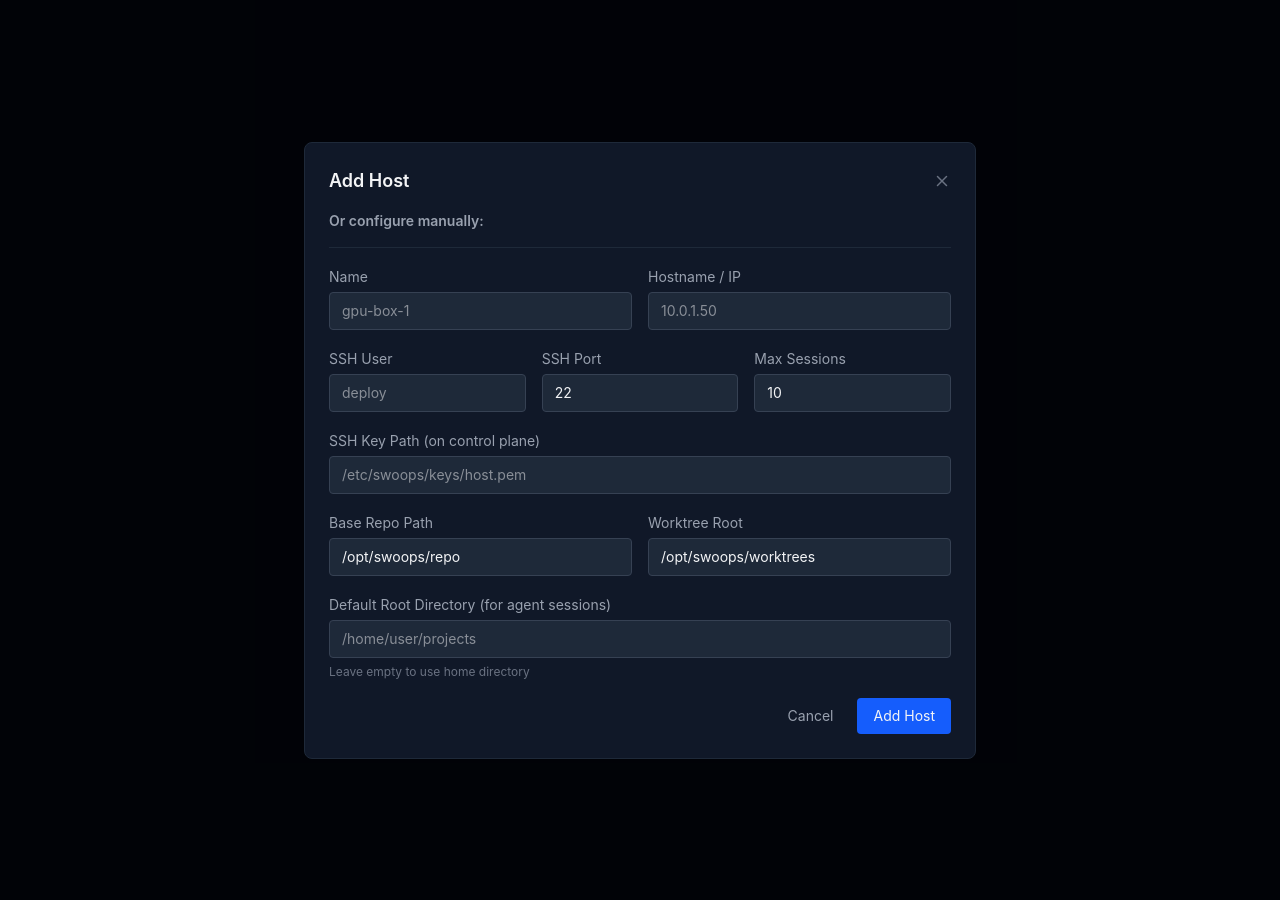
Scenario: CreateHostDialog › should show loading state while submitting
Type "Test Host" into the field with placeholder "gpu-box-1". click: [480, 310]
box: x1=329 y1=292 x2=632 y2=330
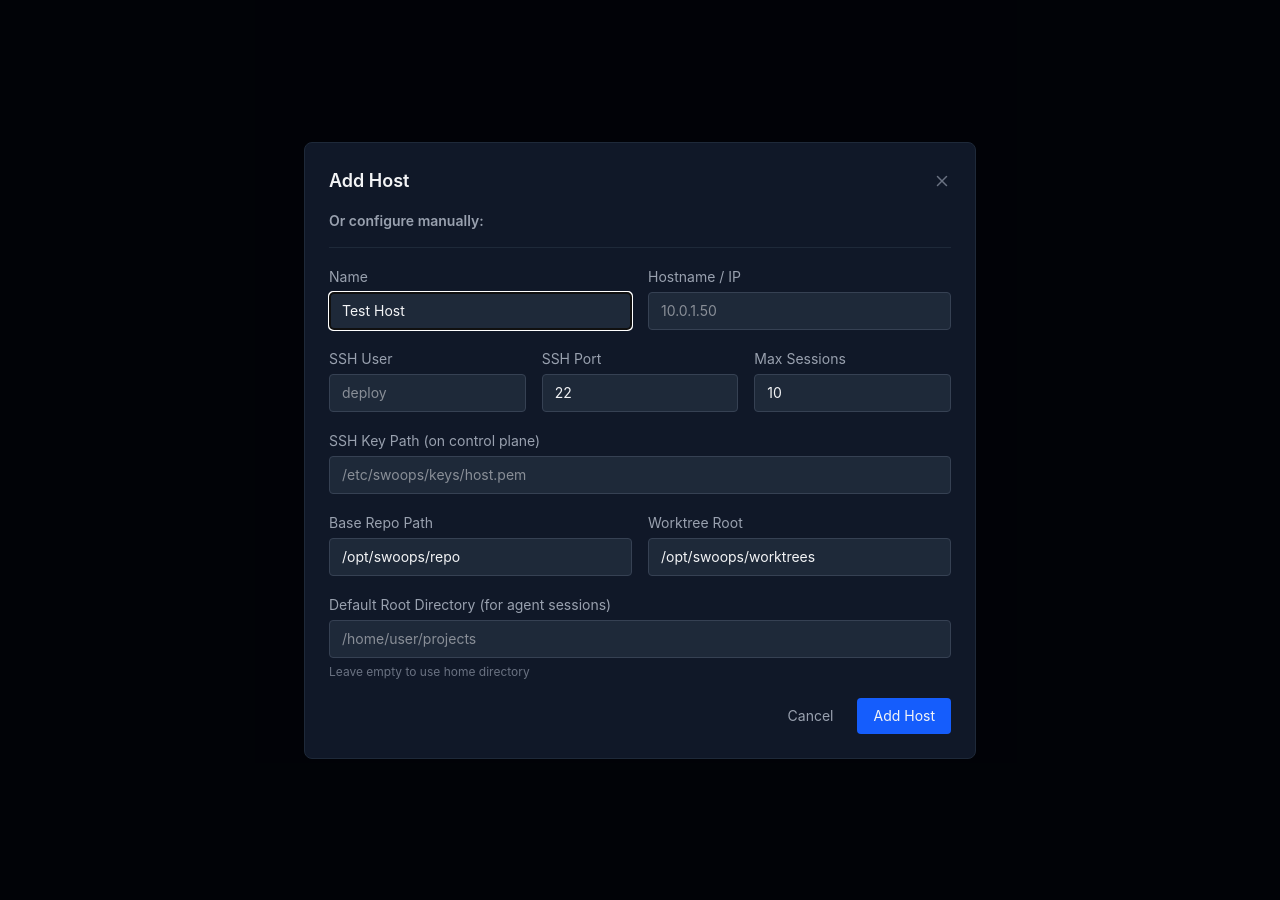
Type "test.example.com" into the field with placeholder "10.0.1.50". click: [800, 310]
box: x1=648 y1=292 x2=951 y2=330
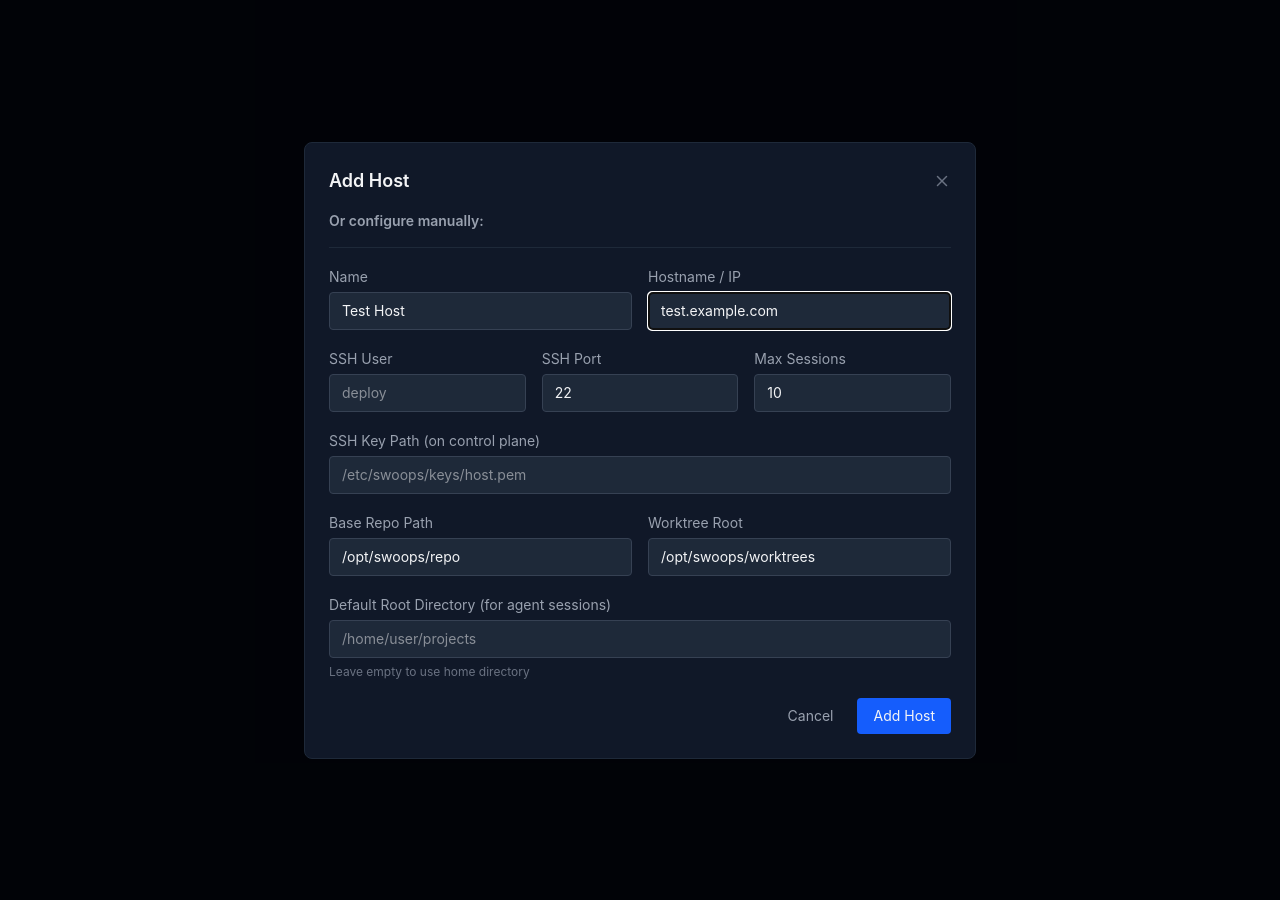
Type "testuser" into the field with placeholder "deploy". click: [427, 392]
box: x1=329 y1=374 x2=526 y2=412
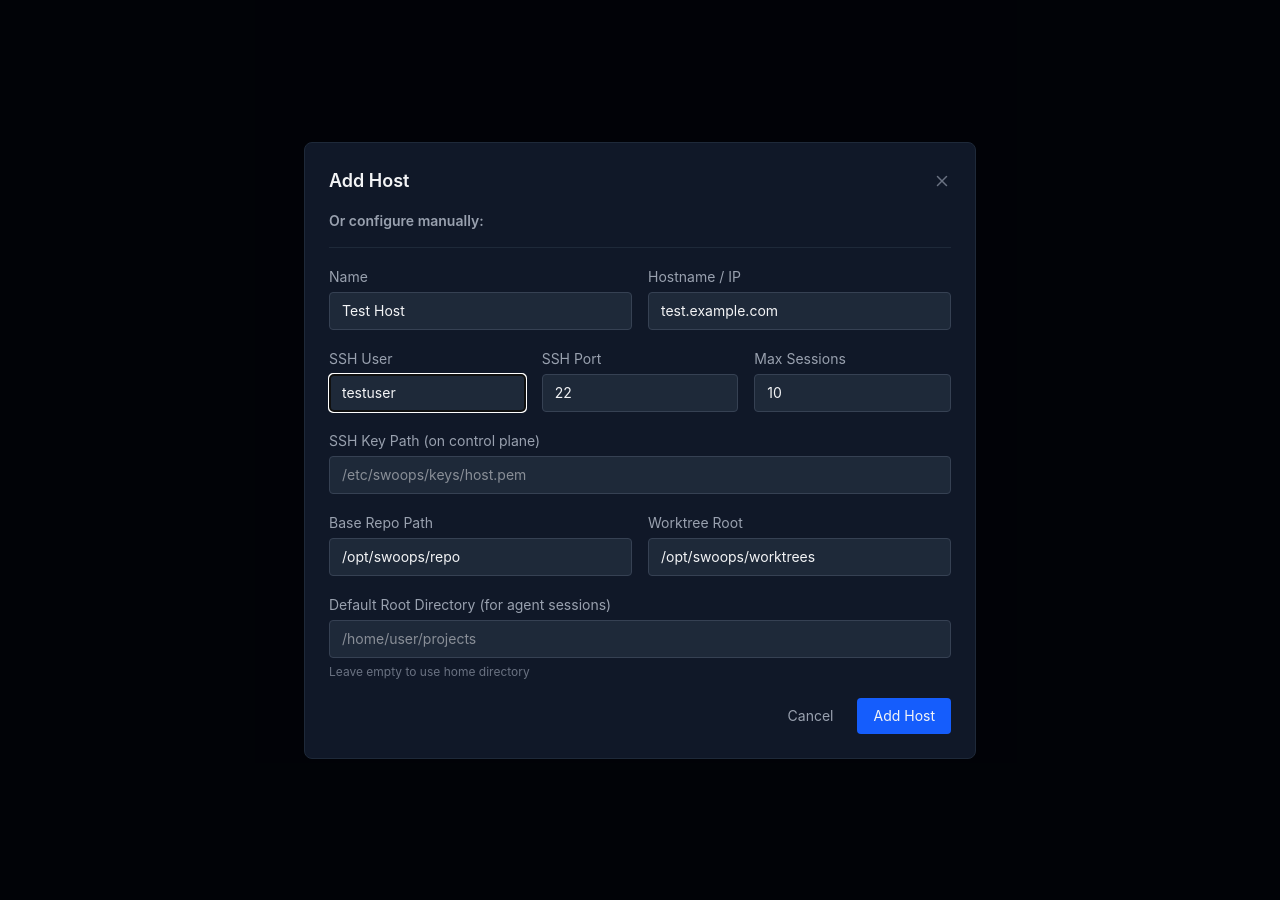
Type "/path/to/key" into the field with placeholder "/etc/swoops/keys/host.pem". click: [640, 474]
box: x1=329 y1=456 x2=951 y2=494
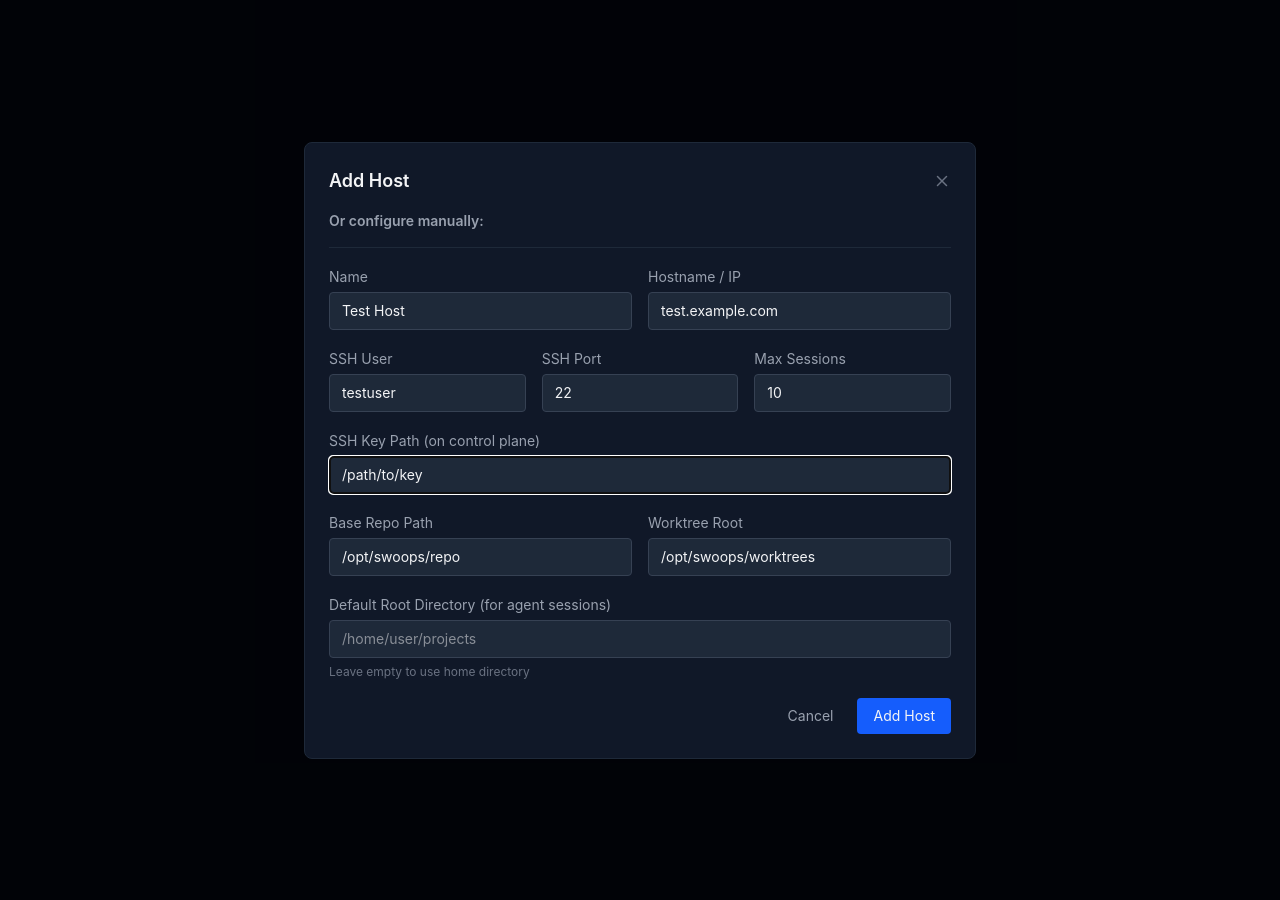
Click the button "Add Host". click: [904, 716]
box: x1=858 y1=698 x2=951 y2=734
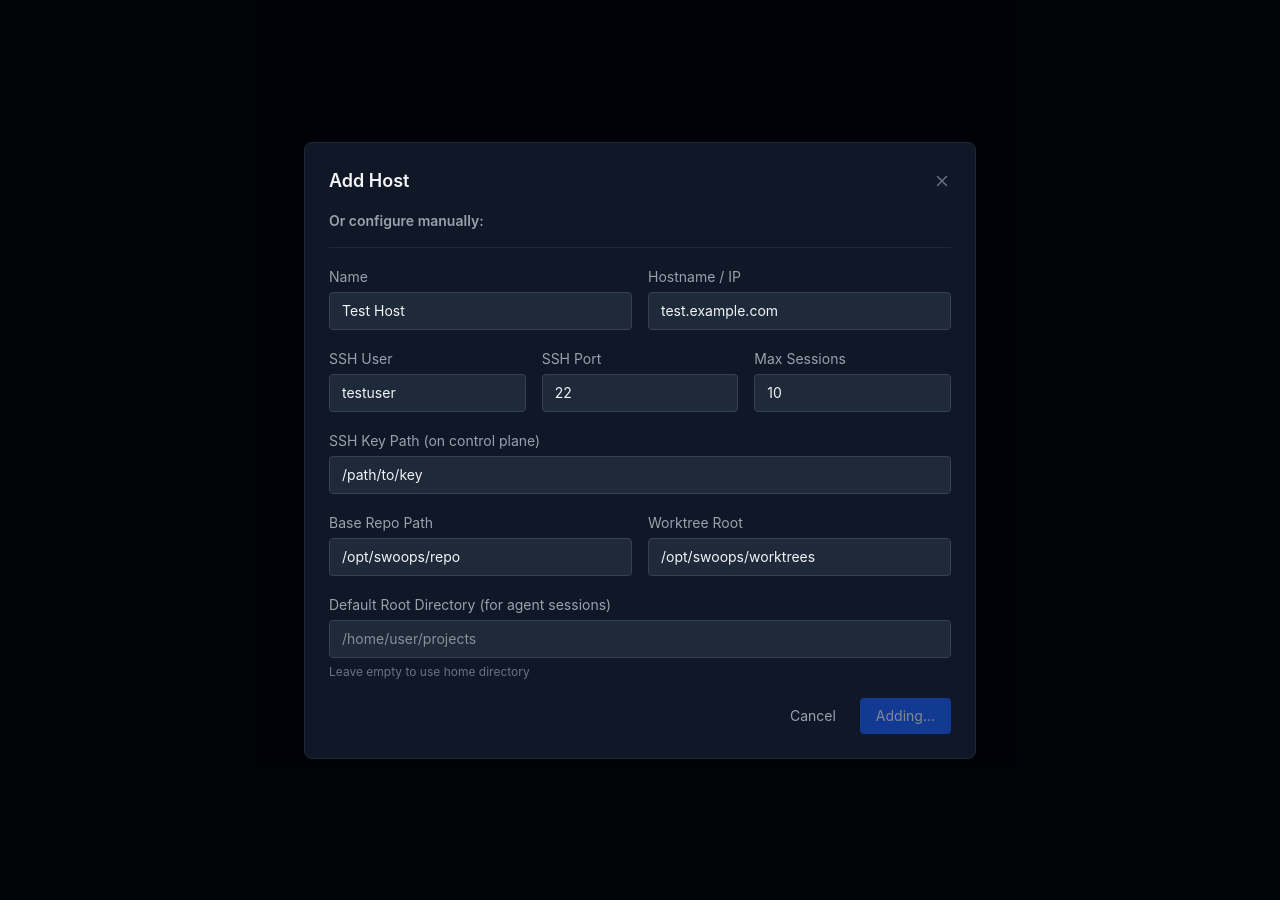
Result: the button "Adding..." is disabled at x1=860 y1=698 x2=951 y2=734
